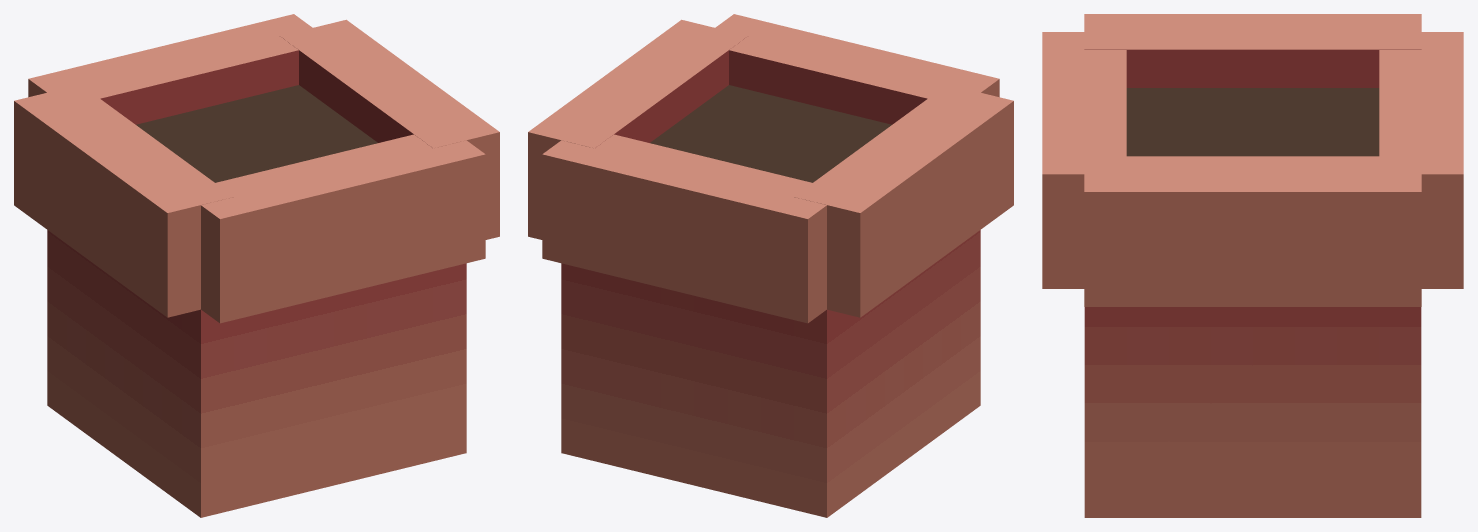
Rendered from Flower Pot.gltf.
3 renders of one model, left to right at view 1: azimuth 30°, elevation 25°; view 2: azimuth 150°, elevation 25°; view 3: azimuth 270°, elevation 25°, orthographic. The views are drawn at different scales.
Visible parts, largest first — view 1: cube (×5); view 2: cube (×5); view 3: cube (×5).
Boxes of the visible parts, left/top/right/bottom form: cube (×5): left=14, top=14, right=499, bottom=517; cube (×5): left=528, top=14, right=1013, bottom=517; cube (×5): left=1042, top=14, right=1463, bottom=517.
Bounding box in the file's own units: 0.1564 × 0.1407 × 0.1562.
Materials: 1 (1 with a texture image).
